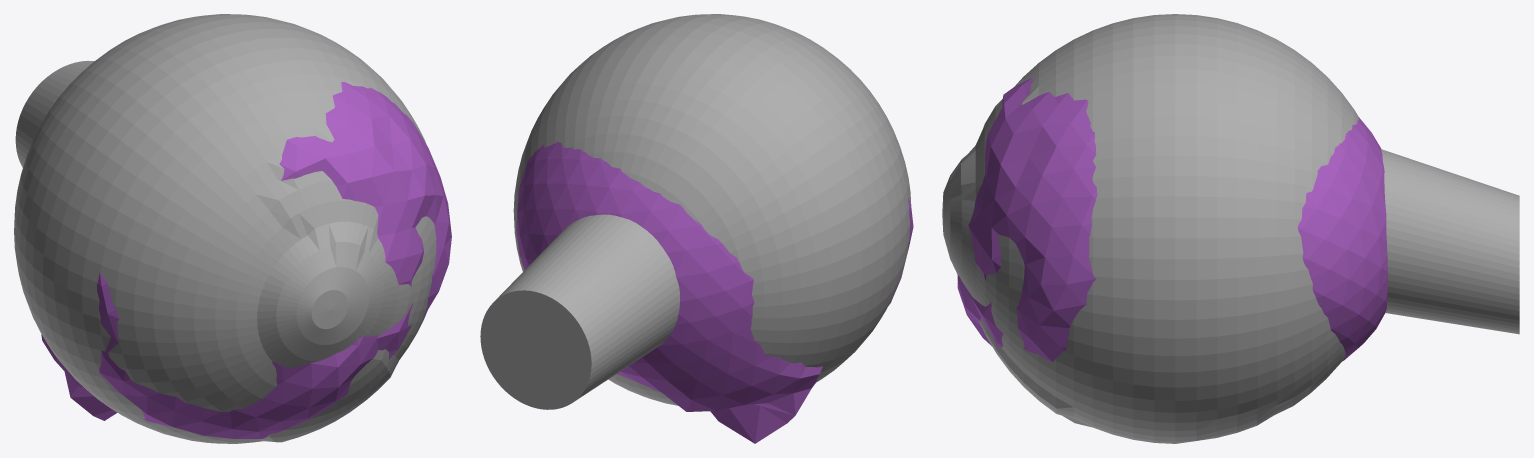
File: G01_A2_ALIGNED_GT.glb
The picture shows the model from 3 angles, left to right: view 1: azimuth 30°, elevation 25°; view 2: azimuth 150°, elevation 25°; view 3: azimuth 270°, elevation 25°; orthographic projection. The views are drawn at different scales.
Parts seen in each view (by area): view 1: Independent_GT, A2; view 2: Independent_GT, A2; view 3: Independent_GT, A2.
Boxes of the visible parts, x1,y1,x2,y2 form: Independent_GT: [14, 14, 436, 443]; A2: [41, 82, 451, 438]; Independent_GT: [480, 14, 911, 409]; A2: [516, 142, 913, 443]; Independent_GT: [942, 14, 1519, 443]; A2: [957, 77, 1388, 362].
Bounding box in the file's own units: 0.012 × 0.0122 × 0.0161.
